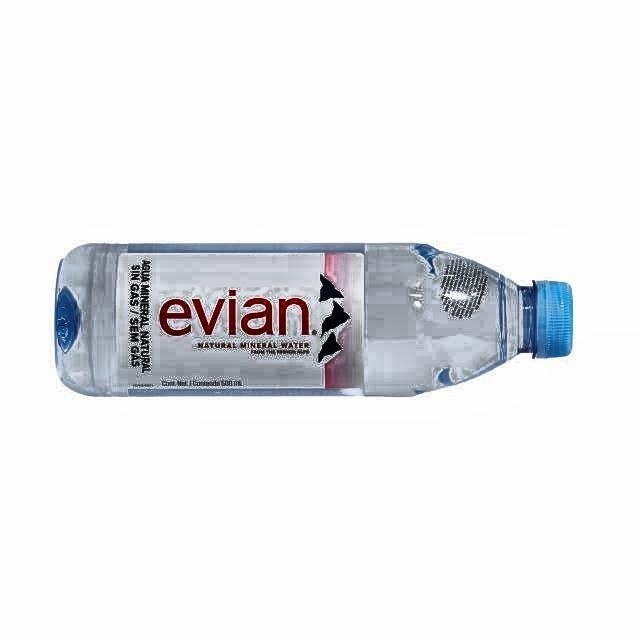plastic: (54, 243, 573, 396)
